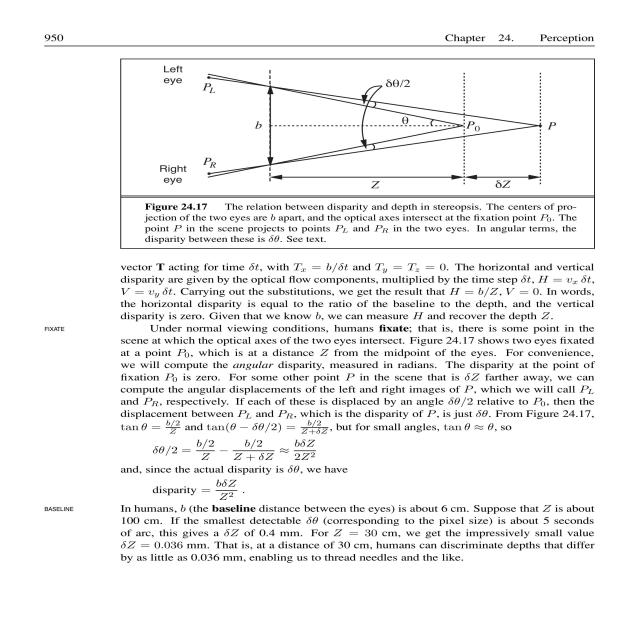diagram: (121, 59, 596, 248)
